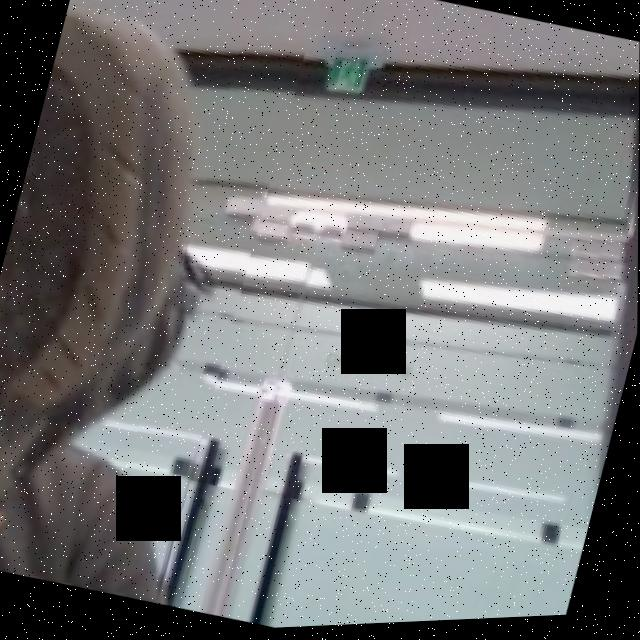shoe: (0, 0, 315, 612)
